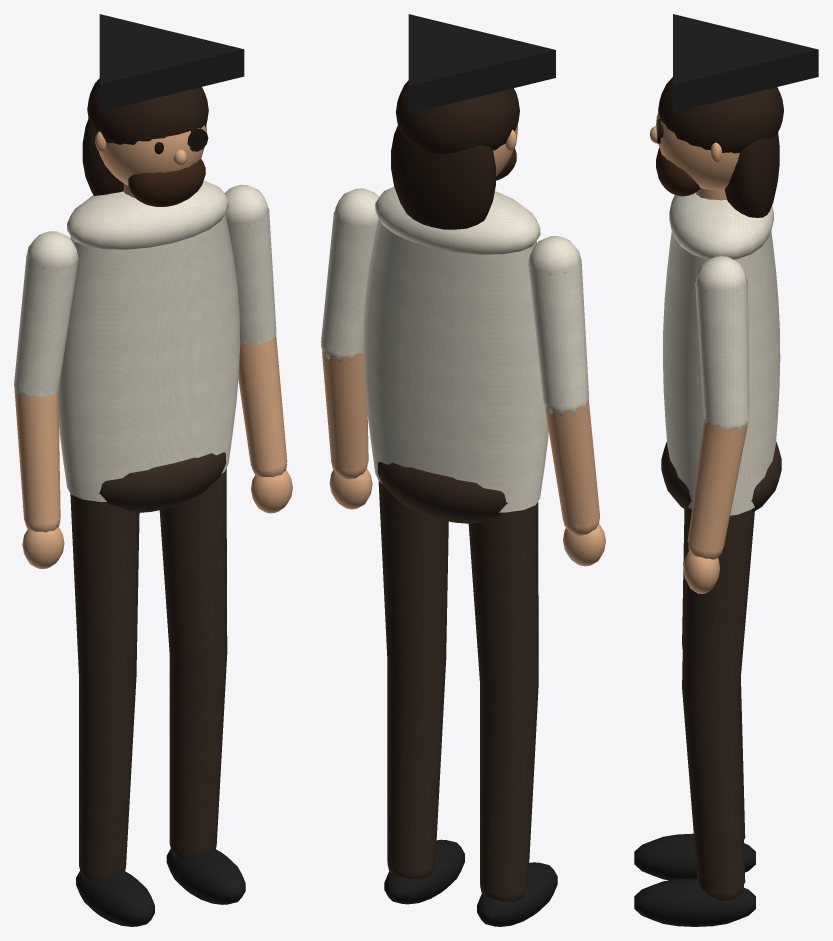
File: a-low-poly-pirate-with-a-black-coat-184-stylized.glb
The picture shows the model from 3 angles, left to right: view 1: azimuth 30°, elevation 25°; view 2: azimuth 150°, elevation 25°; view 3: azimuth 270°, elevation 25°; orthographic projection. The views are drawn at different scales.
Parts seen in each view (by area): view 1: person; view 2: person; view 3: person.
Part boxes in pixels (x1,y1,x2,y2): person: (14, 14, 292, 926); person: (321, 14, 605, 926); person: (634, 14, 818, 926).
Bounding box in the file's own units: 0.5878 × 1.78 × 0.3492.
9 materials, 2 textured.
